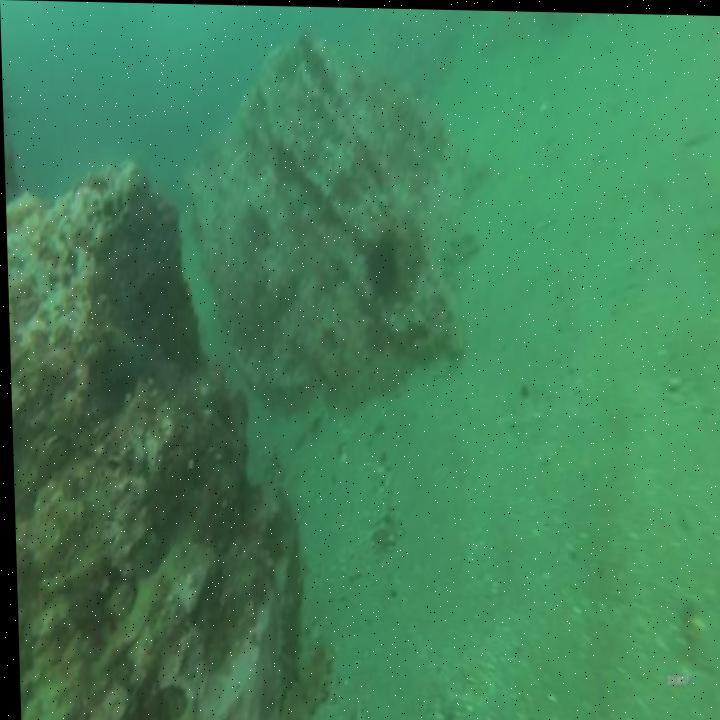echinus: (356, 220, 404, 314)
holothurian: (276, 625, 334, 720)
